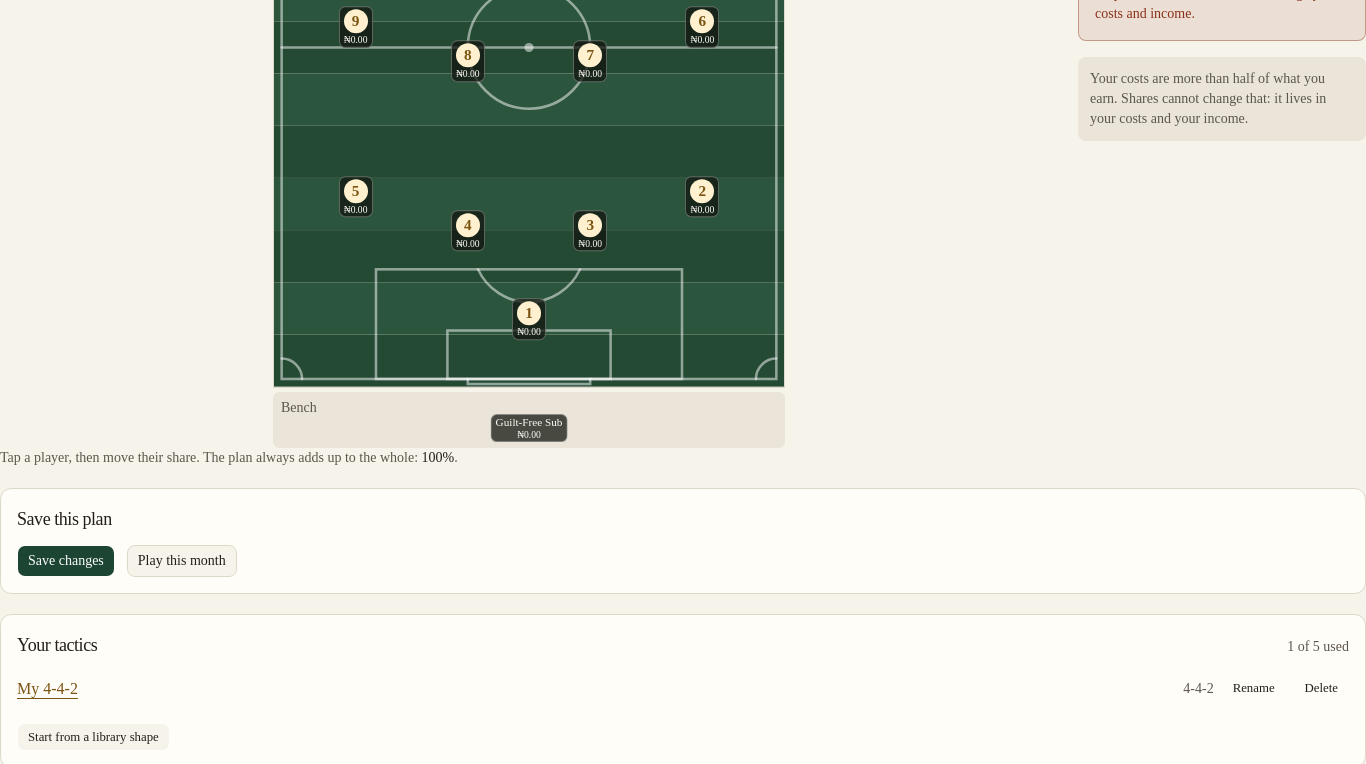
playing a saved tactic (AC-5, AC-8, AC-9) › repeats the warning on the review step
The image size is (1366, 764).
(page scrolled)
Click the button "Play this month". click: click(182, 561)
box: top-left (127, 545), bottom-right (237, 577)
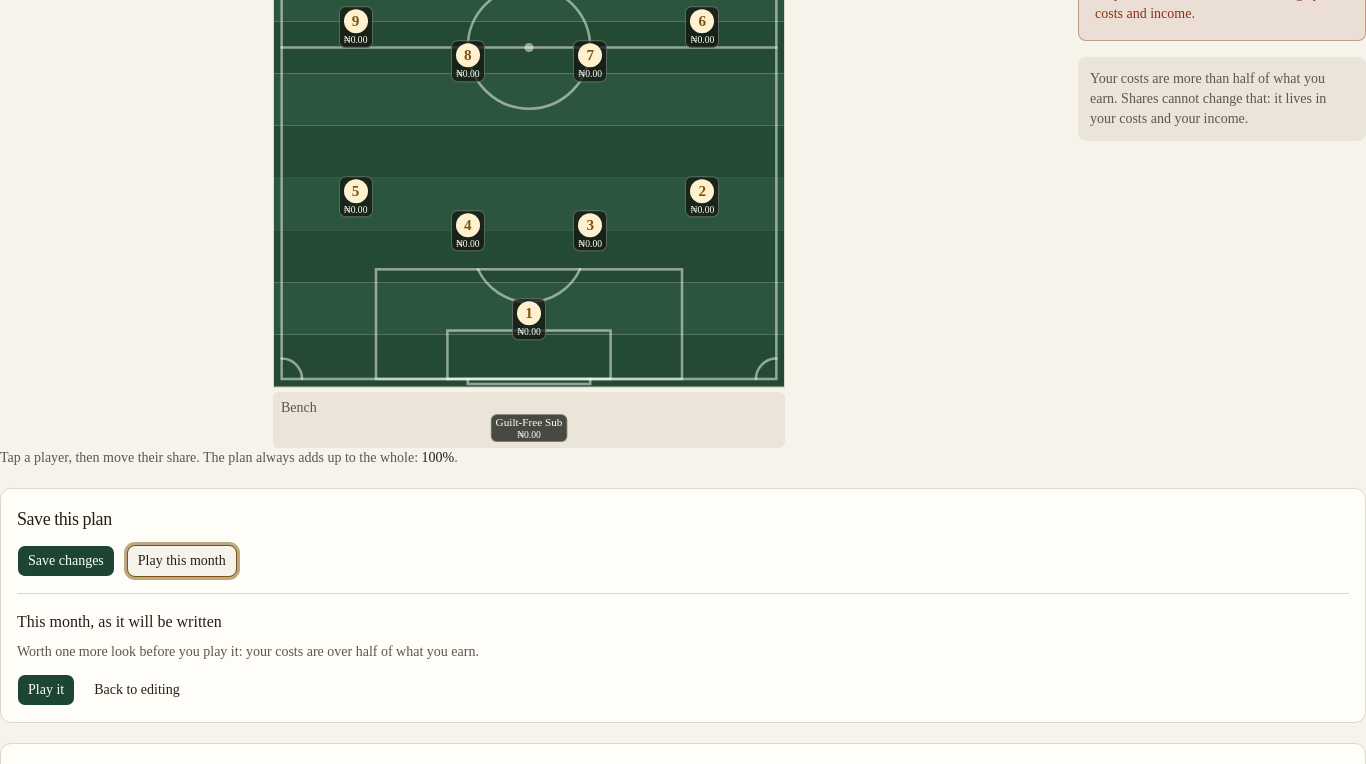
expect the list item "your costs are over half of what you earn" is shown: met, box top-left (17, 644), bottom-right (479, 659)
